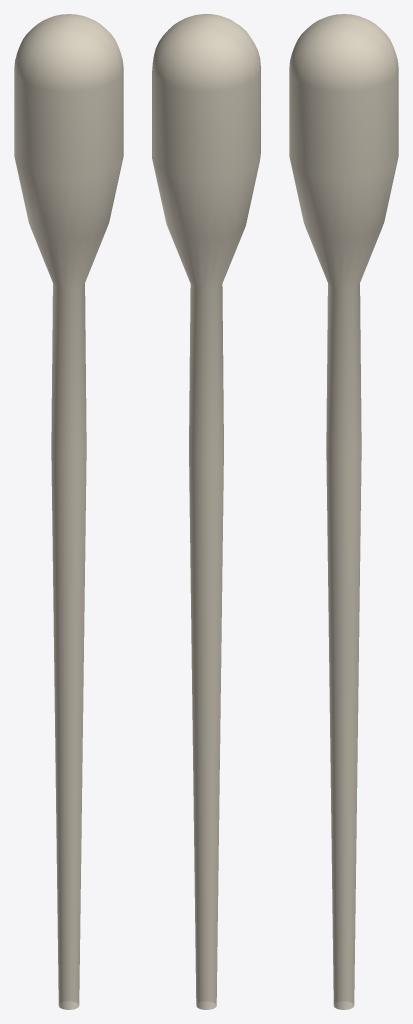
File: dropper.fbx
The picture shows the model from 3 angles, left to right: view 1: azimuth 90°, elevation 25°; view 2: azimuth 150°, elevation 25°; view 3: azimuth 270°, elevation 25°; orthographic projection.
Visible parts, largest first — view 1: pSphere1; view 2: pSphere1; view 3: pSphere1.
Boxes of the visible parts, bbox=[...] form: pSphere1: bbox=[14, 14, 123, 1009]; pSphere1: bbox=[152, 14, 260, 1009]; pSphere1: bbox=[289, 14, 398, 1009].
Size of the model in its own units: 1.31 by 13 by 1.31.
